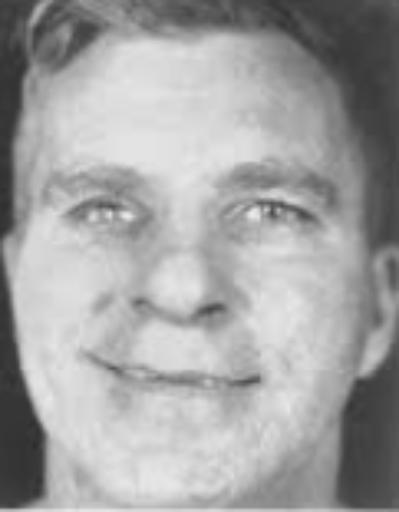left_eye: (223, 200, 318, 235)
left_lip_corner: (236, 365, 280, 394)
right_eye: (57, 200, 150, 234)
right_lip_corner: (84, 346, 126, 384)
